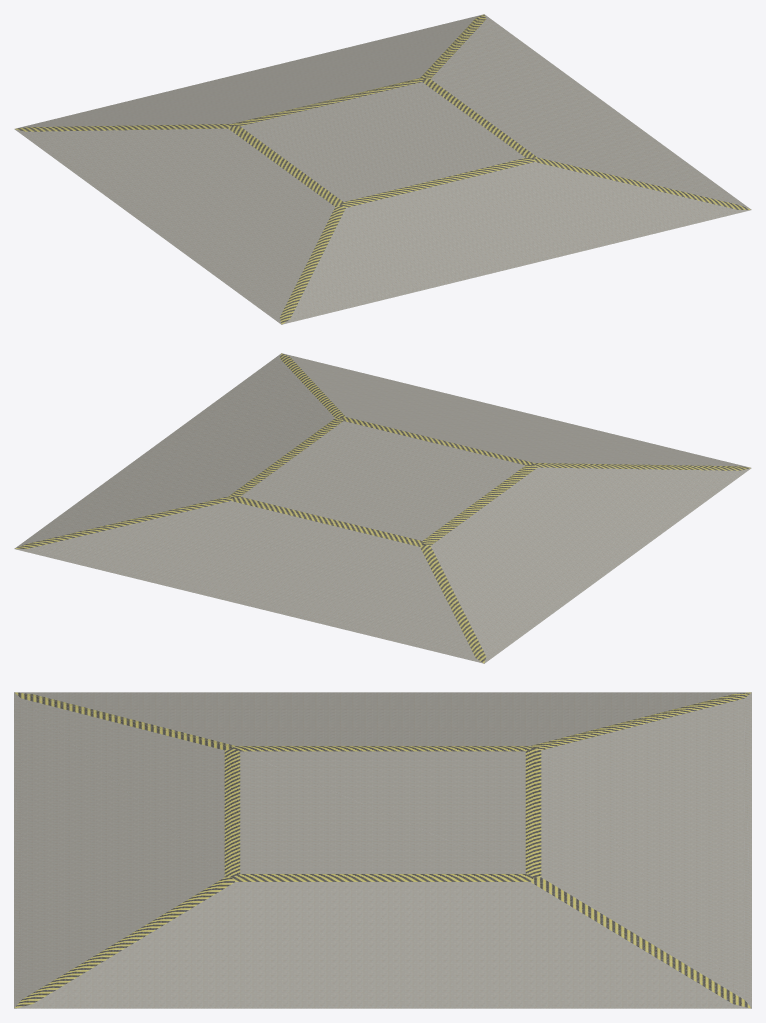
The model's file is ArenaRamp.FBX.
3 views of the same model, one above another, from view 1: azimuth 30°, elevation 25°; view 2: azimuth 150°, elevation 25°; view 3: azimuth 270°, elevation 25° (orthographic). The views are drawn at different scales.
Parts seen in each view (by area): view 1: RampMain, RampStripes; view 2: RampMain, RampStripes; view 3: RampMain, RampStripes.
Part boxes in pixels (x1=…): RampMain: x1=14, y1=14, x2=751, y2=324; RampStripes: x1=15, y1=14, x2=750, y2=324; RampMain: x1=14, y1=353, x2=751, y2=663; RampStripes: x1=15, y1=353, x2=750, y2=663; RampMain: x1=14, y1=692, x2=751, y2=1008; RampStripes: x1=14, y1=692, x2=751, y2=1008.
Size of the model in its own units: 10648 by 593 by 10491.
